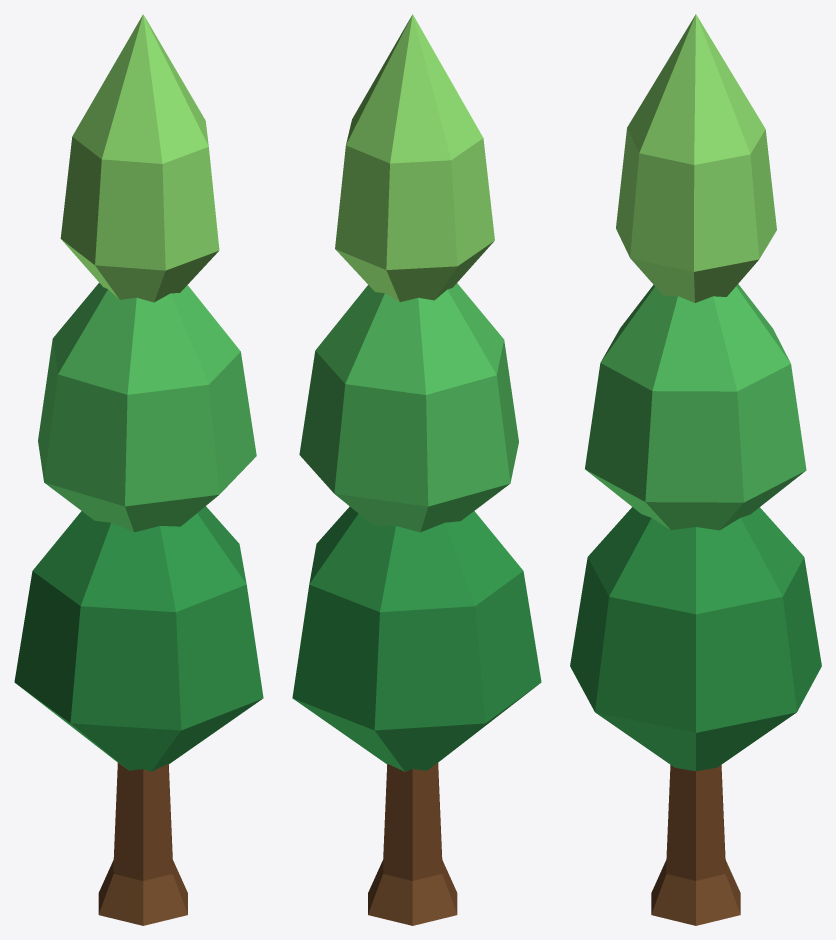
File: tree_tall.glb
3 renders of one model, left to right at view 1: azimuth 30°, elevation 25°; view 2: azimuth 150°, elevation 25°; view 3: azimuth 270°, elevation 25°, orthographic.
Parts seen in each view (by area): view 1: tree_tall; view 2: tree_tall; view 3: tree_tall.
Part boxes in pixels (x1,y1,x2,y2): tree_tall: (14, 14, 263, 925); tree_tall: (292, 14, 541, 925); tree_tall: (570, 14, 821, 925).
Size of the model in its own units: 0.2376 by 0.95 by 0.2437.
